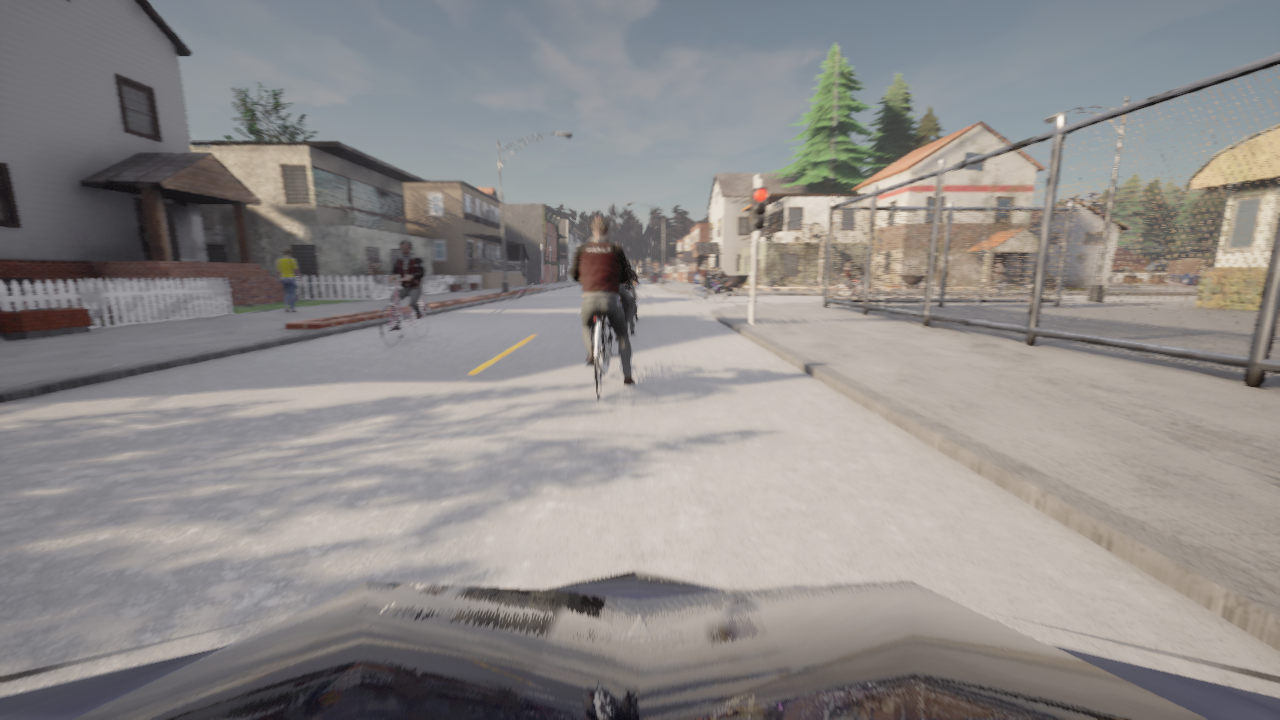cyclist: (0, 569, 1279, 719), (380, 278, 428, 346), (586, 316, 618, 399), (620, 274, 641, 322), (690, 276, 727, 303), (832, 275, 872, 298), (701, 274, 739, 296), (1022, 278, 1062, 298), (975, 277, 1009, 296), (830, 277, 859, 295), (616, 296, 621, 340)
pedestrian: (276, 248, 302, 312)
